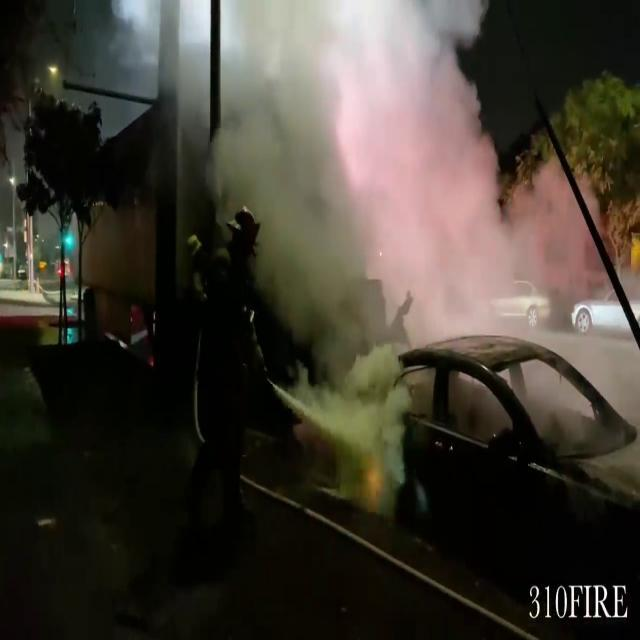Smoke: (211, 0, 549, 333)
